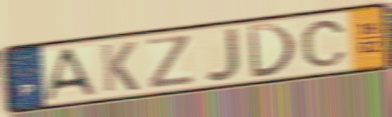A: (41, 46, 100, 104)
C: (298, 18, 350, 69)
D: (245, 22, 299, 80)
J: (202, 25, 242, 84)
K: (99, 40, 141, 94)
Z: (145, 33, 198, 91)
